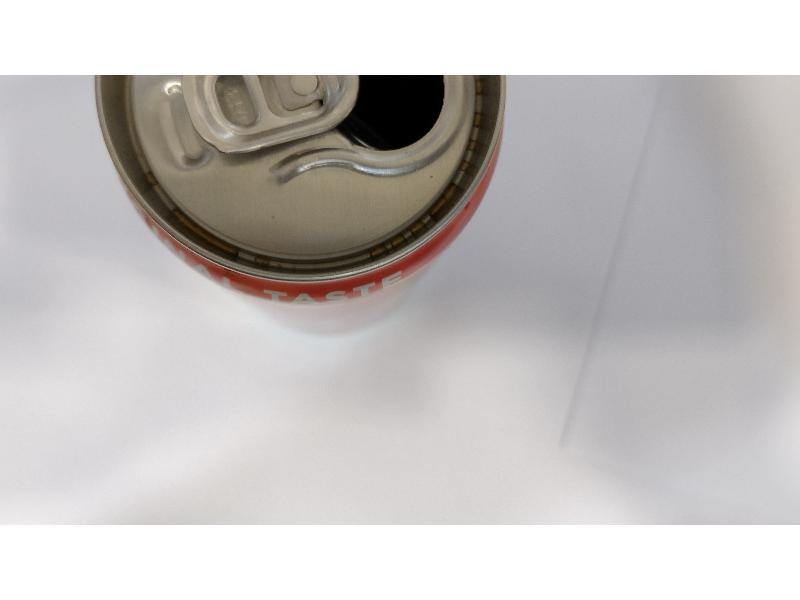can: (83, 73, 537, 348)
